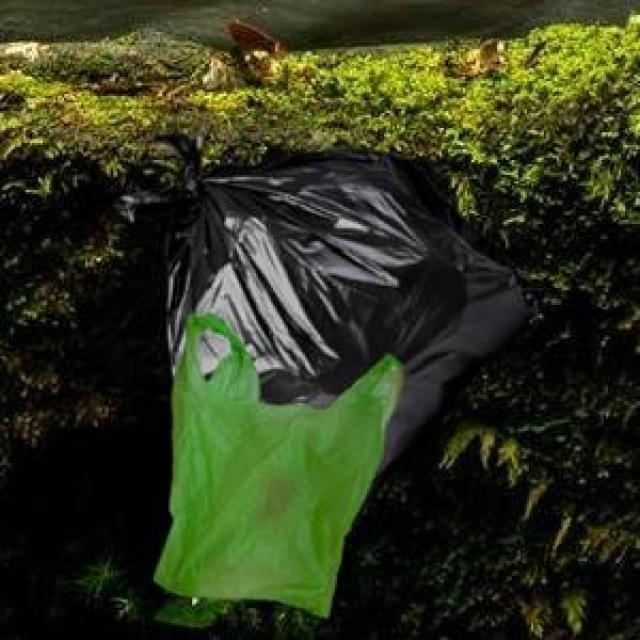miscellaneous trash: (111, 128, 542, 504)
